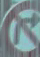Don't turn right: (1, 2, 39, 54)
